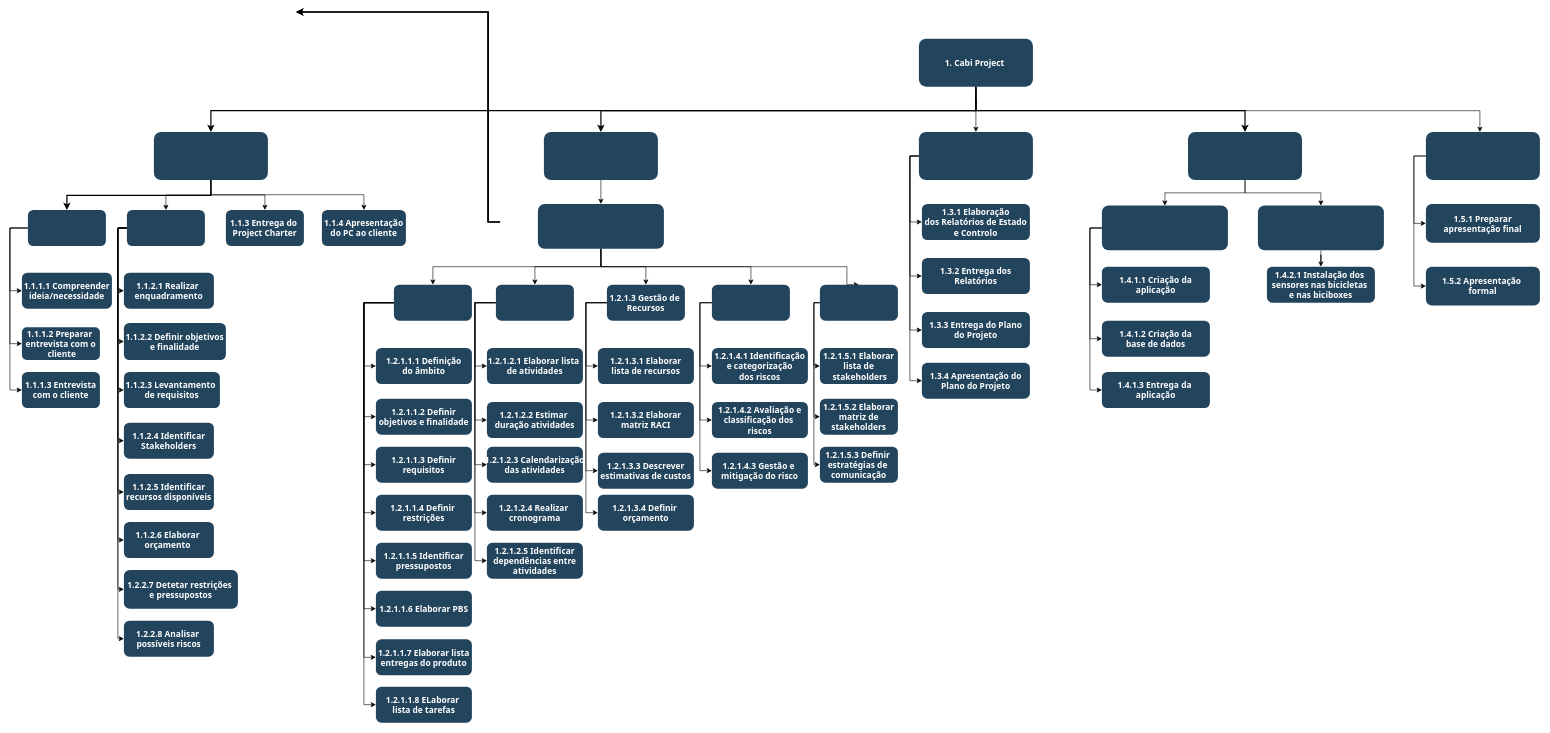
This 1550x733 diagram has some shape labels left out. Here are the shapes that lost their labels. From the top down, the centre of each, then its label:
At [211,156]: "1.1 Iniciação".
At [601,156]: "1.2 Planeamento".
At [976,156]: "1.3 Monotorização e Controlo".
At [1245,156]: "1.4 Execução".
At [1483,156]: "1.5 Encerramento".
At [67,228]: "1.1.1 Kick Off Meeting".
At [166,228]: "1.1.2 Project Charter".
At [601,226]: "1.2.1 Plano do Projeto".
At [1165,227]: "1.4.1 Desenvolvimento da aplicação".
At [1321,227]: "1.4.2 Vertente física".
At [433,302]: "1.2.1.1 Gestão de Âmbito".
At [535,302]: "1.2.1.2 Gestão do Tempo".
At [751,302]: "1.2.1.4 Gestão de Riscos".
At [859,302]: "1.2.1.5 Gestão dos Stakeholders".
